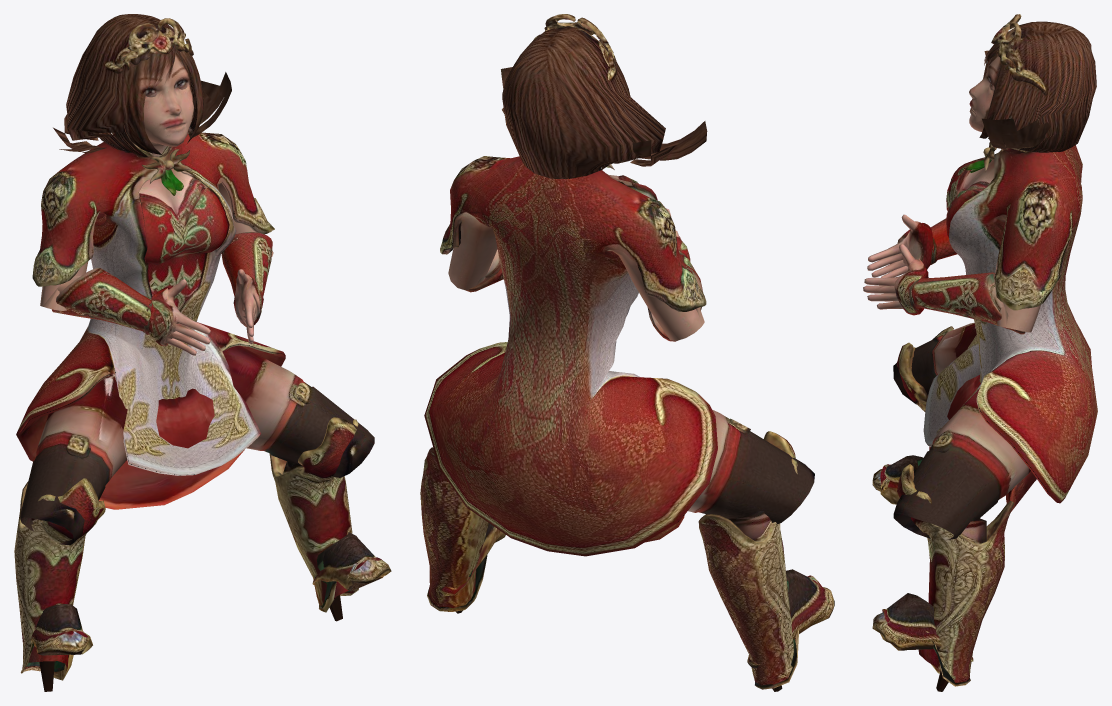
The model's file is sun-shangxiang.glb.
3 views of the same model, side by side, from view 1: azimuth 30°, elevation 25°; view 2: azimuth 150°, elevation 25°; view 3: azimuth 270°, elevation 25° (orthographic). The views are drawn at different scales.
Bounding box in the file's own units: 1.16 × 1.93 × 0.6828.
Materials: 1 (1 with a texture image).
